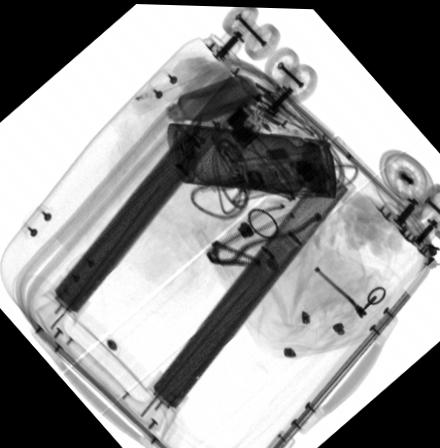Scissors: (164, 115, 205, 178)
